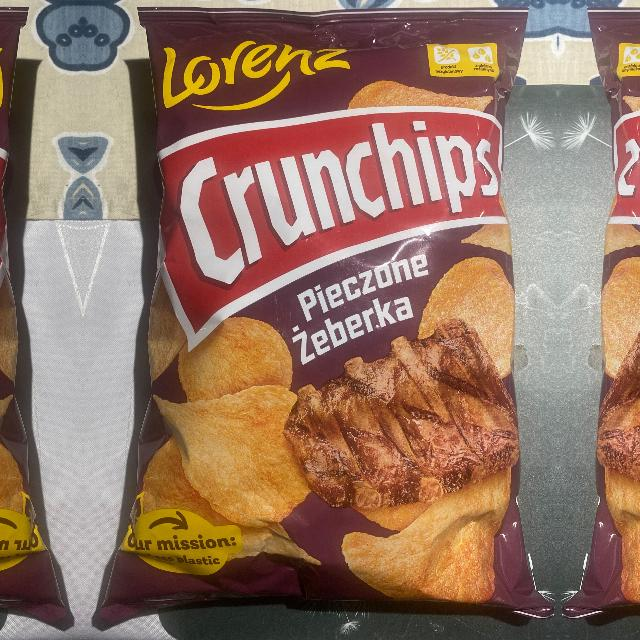crunchips: (158, 107, 509, 353)
